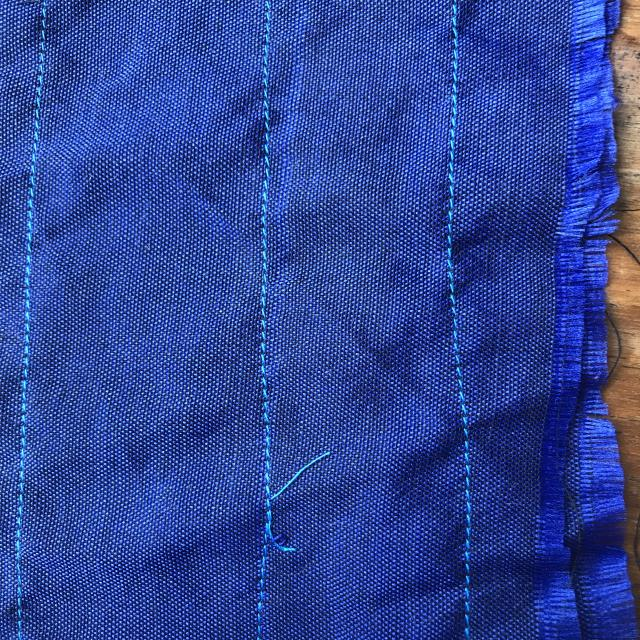good: (426, 290, 492, 496)
